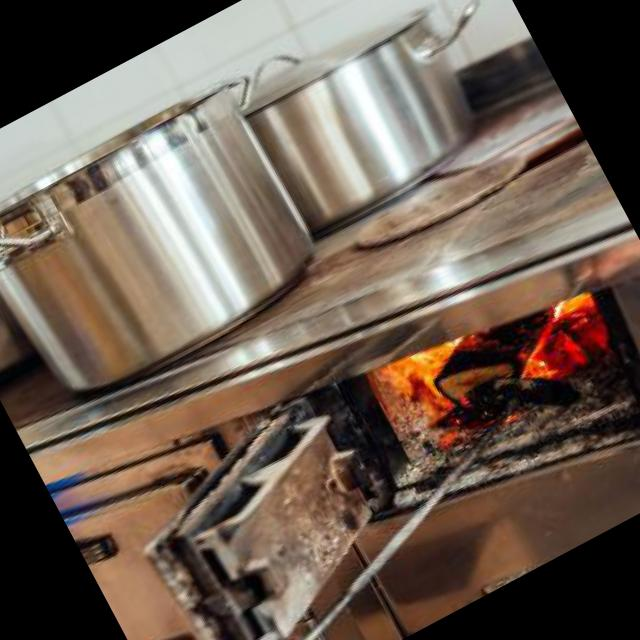fire: (350, 250, 626, 486)
